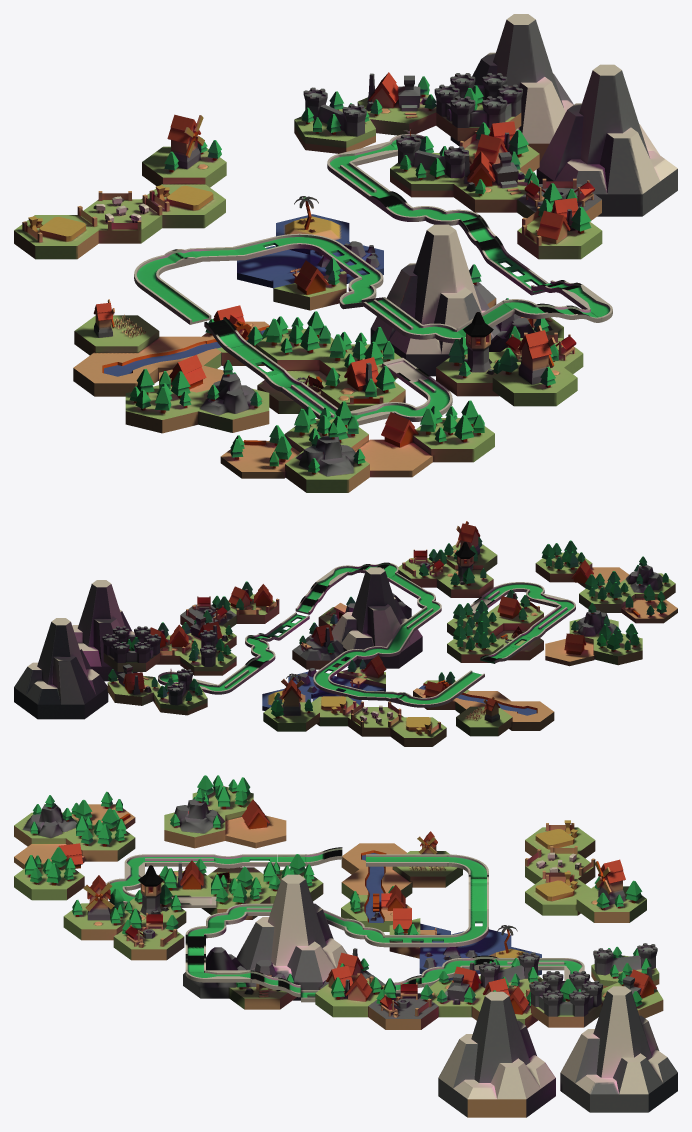
File: course.fbx
3 renders of one model, top to bottom at view 1: azimuth 30°, elevation 25°; view 2: azimuth 150°, elevation 25°; view 3: azimuth 270°, elevation 25°, orthographic. The views are drawn at different scales.
Visible parts, largest first — view 1: course_backup_Baked; view 2: course_backup_Baked; view 3: course_backup_Baked.
Part boxes in pixels (x1=…): course_backup_Baked: x1=14, y1=14, x2=677, y2=492; course_backup_Baked: x1=14, y1=521, x2=677, y2=746; course_backup_Baked: x1=14, y1=775, x2=677, y2=1117.
Size of the model in its own units: 32988 by 5432 by 32619.
Materials: 1 (1 with a texture image).
